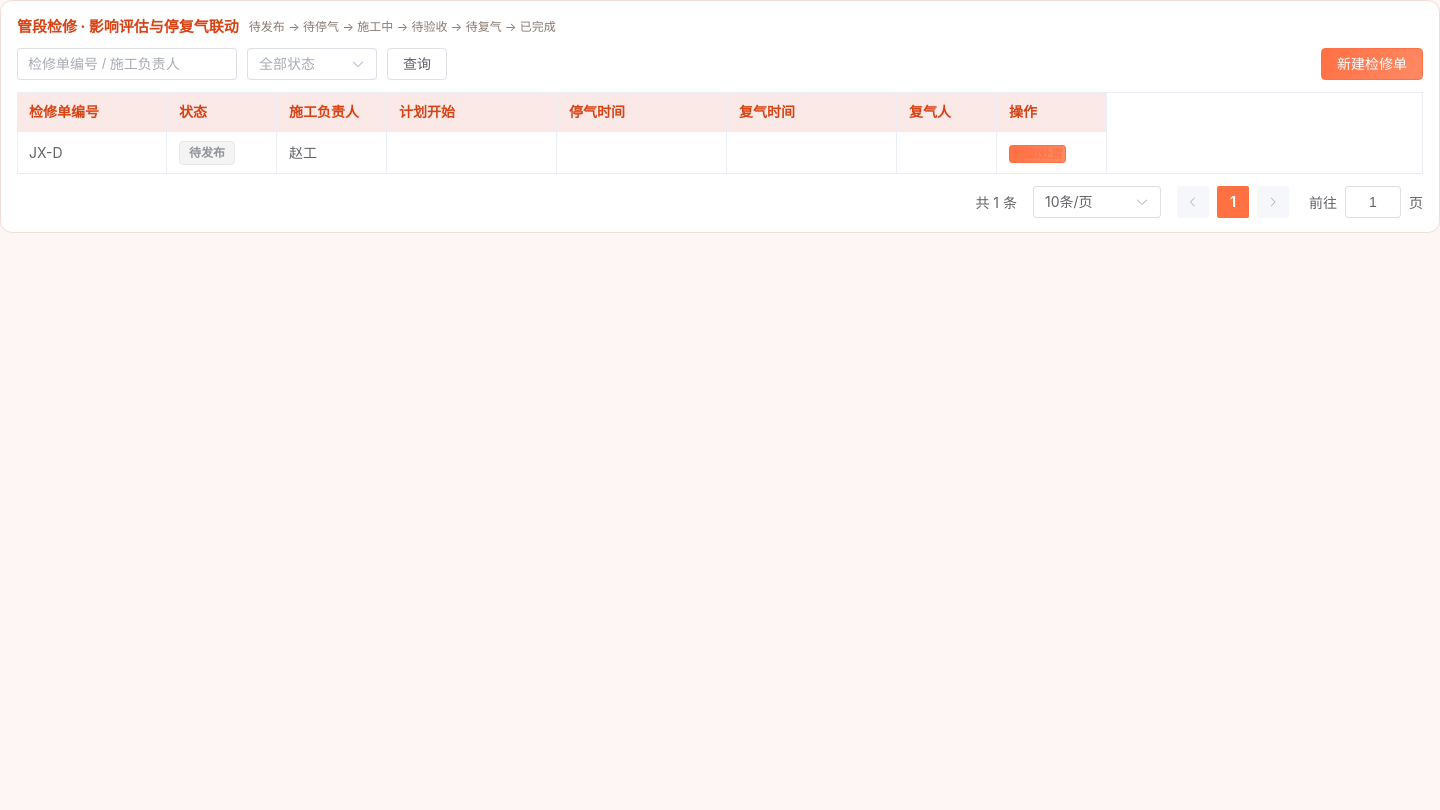
Test case: 检修详情抽屉 › 点详情拉取详情并渲染详情组件
Click the button "详情/处置": coordinates (1038, 154) [1009,145,1066,163]
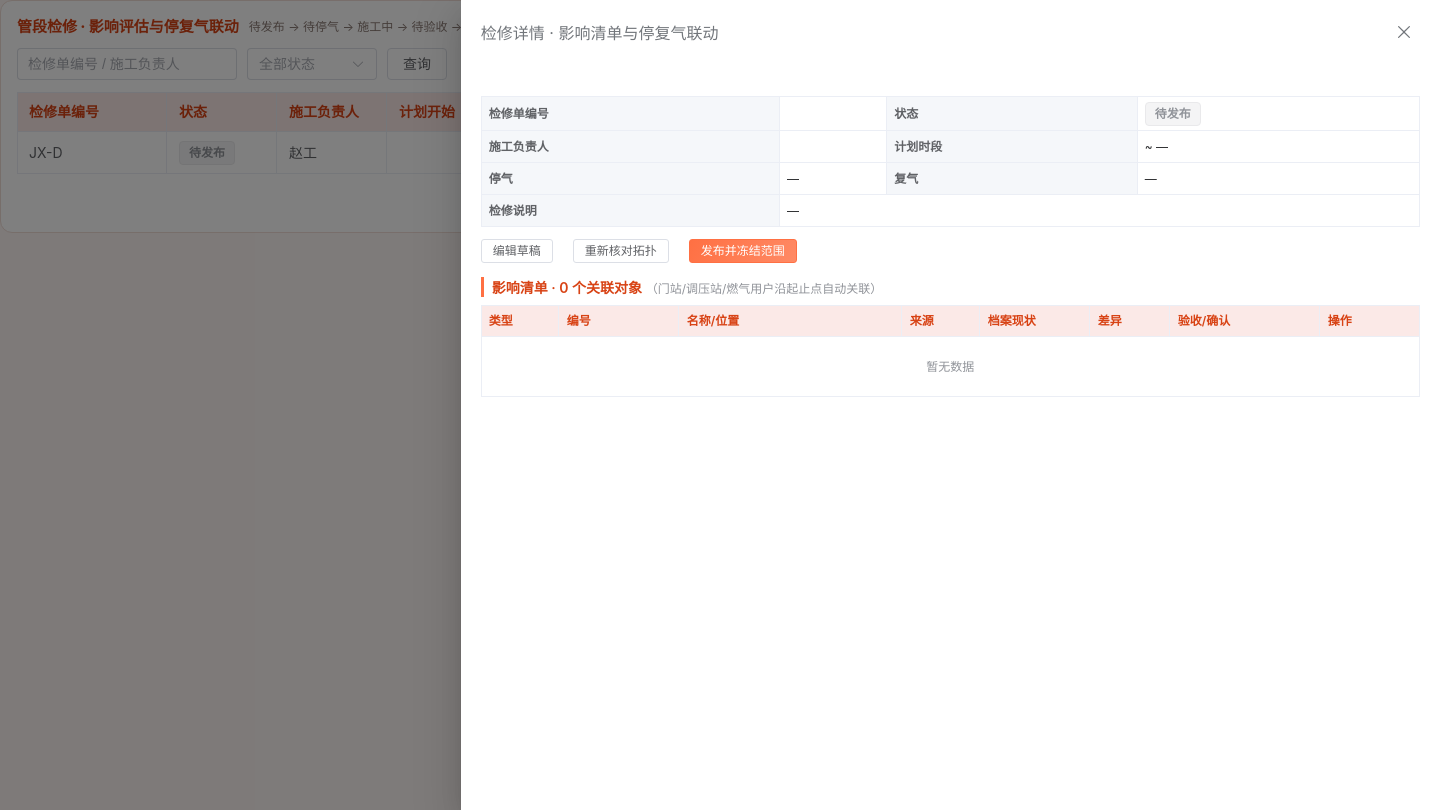
Now the element that starts with "检修单编号" is shown, box [481,96,1420,397]
